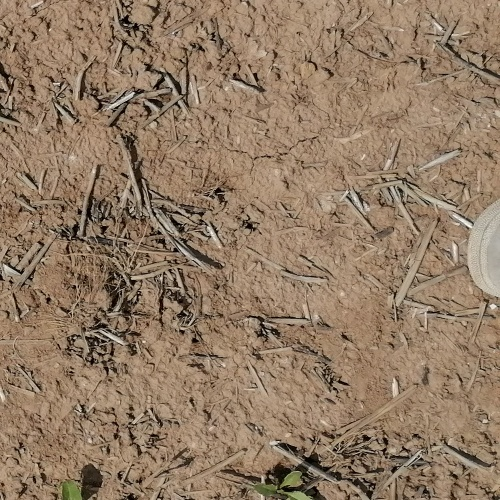beet: (254, 470, 317, 500), (60, 479, 84, 500)
